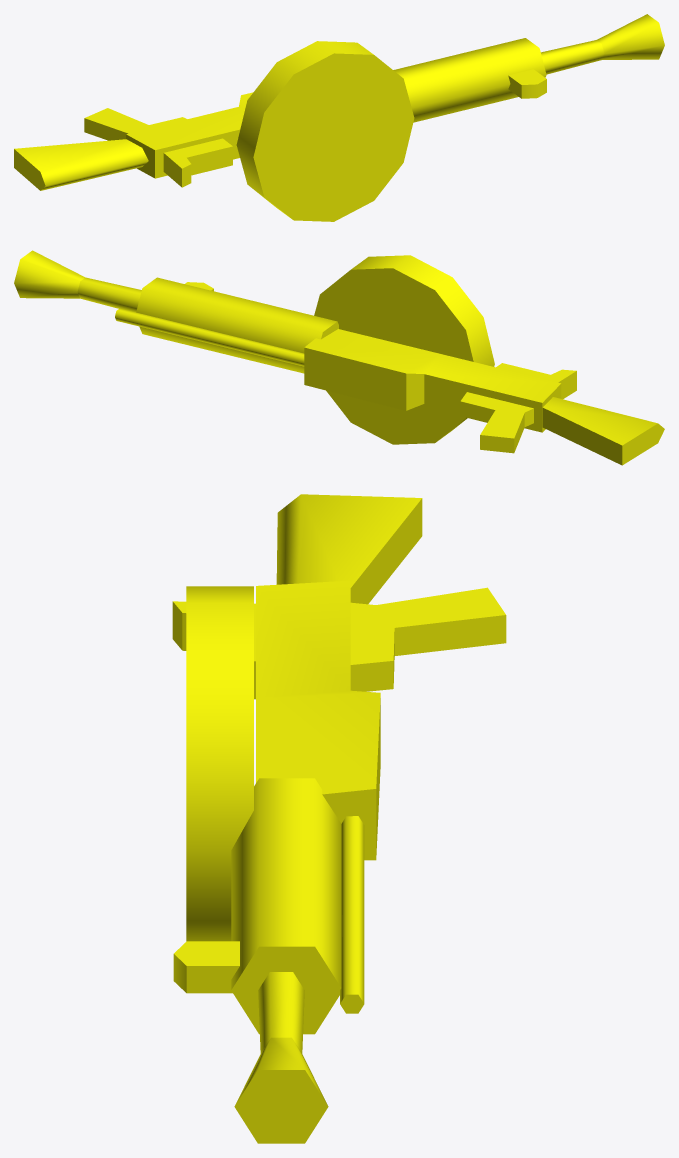
Rendered from weapon_dp28.glb.
3 views of the same model, one above another, from view 1: azimuth 30°, elevation 25°; view 2: azimuth 150°, elevation 25°; view 3: azimuth 270°, elevation 25° (orthographic). The views are drawn at different scales.
Visible parts, largest first — view 1: weapon_dp28; view 2: weapon_dp28; view 3: weapon_dp28.
Part boxes in pixels (x1,y1,x2,y2): weapon_dp28: [14, 14, 664, 221]; weapon_dp28: [14, 250, 664, 465]; weapon_dp28: [172, 494, 506, 1143].
Bounding box in the file's own units: 2.07 × 0.5485 × 0.4919.
1 material, 1 textured.
